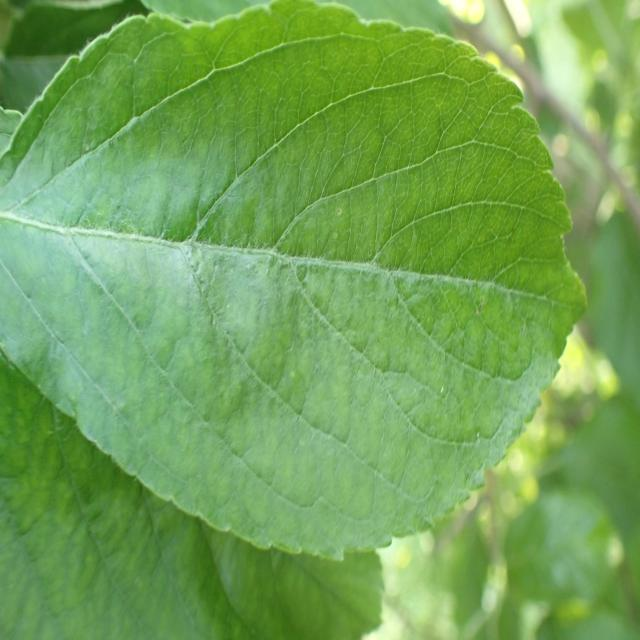healthy: (1, 1, 588, 561), (0, 340, 387, 640)
